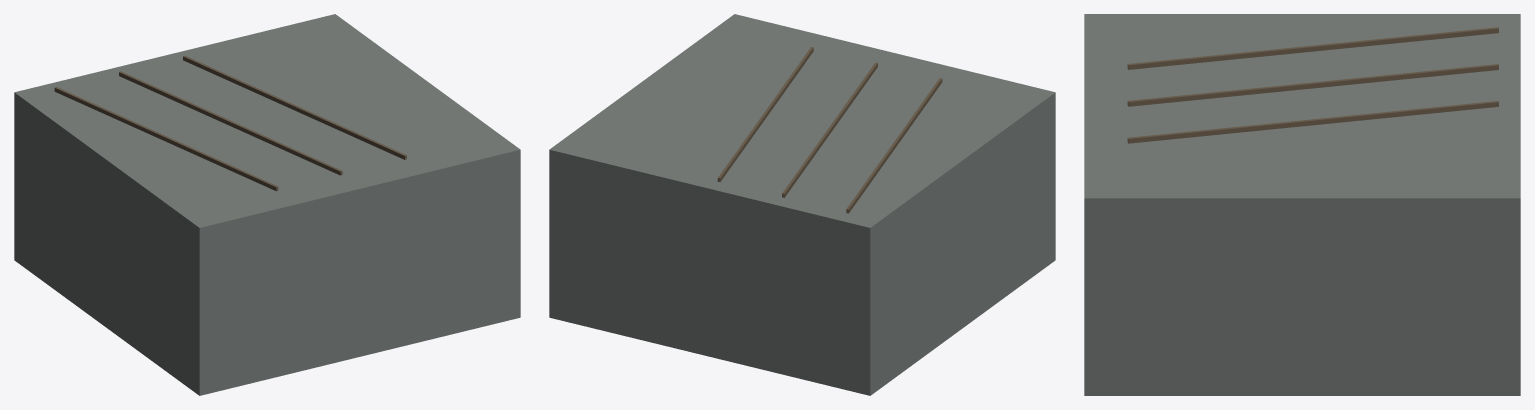
File: terrain-rock-block.lod0.glb
The picture shows the model from 3 angles, left to right: view 1: azimuth 30°, elevation 25°; view 2: azimuth 150°, elevation 25°; view 3: azimuth 270°, elevation 25°; orthographic projection. The views are drawn at different scales.
Visible parts, largest first — view 1: terrain-rock-block__body; view 2: terrain-rock-block__body; view 3: terrain-rock-block__body.
Part boxes in pixels (<box>): terrain-rock-block__body: <box>14,14,520,395</box>; terrain-rock-block__body: <box>549,14,1055,395</box>; terrain-rock-block__body: <box>1084,14,1520,395</box>.
Bounding box in the file's own units: 2 × 1.02 × 2.
